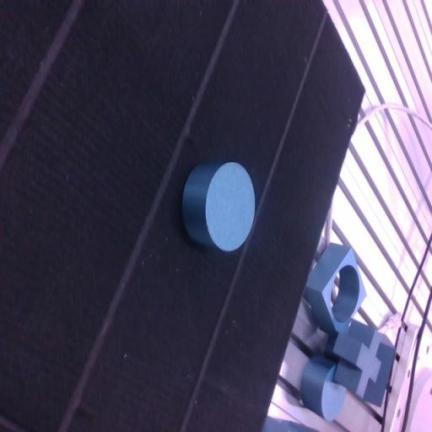cylinder: (182, 162, 254, 251)
